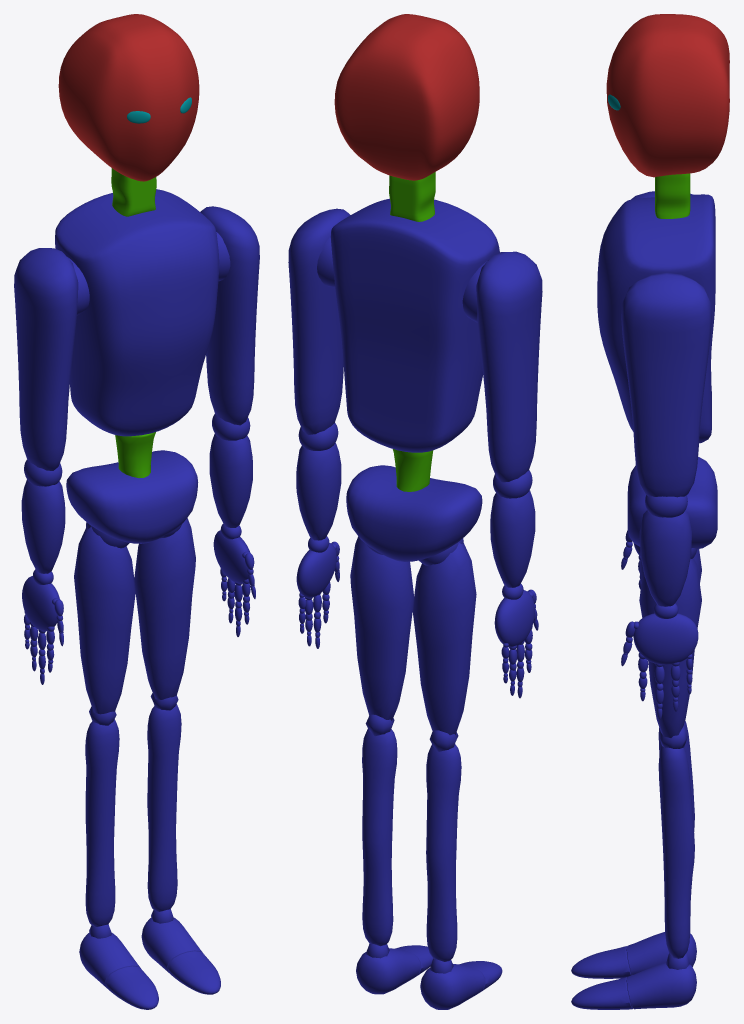
The model's file is Mannequin_final.fbx.
3 views of the same model, side by side, from view 1: azimuth 30°, elevation 25°; view 2: azimuth 150°, elevation 25°; view 3: azimuth 270°, elevation 25° (orthographic). The views are drawn at different scales.
Visible parts, largest first — view 1: body, head, spines; view 2: body, head, spines; view 3: body, head, spines.
Part boxes in pixels (left/top/right/bottom): body: left=14, top=189, right=259, bottom=1009; head: left=58, top=14, right=199, bottom=181; spines: left=111, top=168, right=156, bottom=478; body: left=288, top=198, right=542, bottom=1009; head: left=334, top=14, right=479, bottom=180; spines: left=389, top=172, right=435, bottom=491; body: left=571, top=191, right=717, bottom=1009; head: left=606, top=14, right=729, bottom=177; spines: left=655, top=173, right=690, bottom=218.
Size of the model in its own units: 47.99 by 192 by 28.53.
